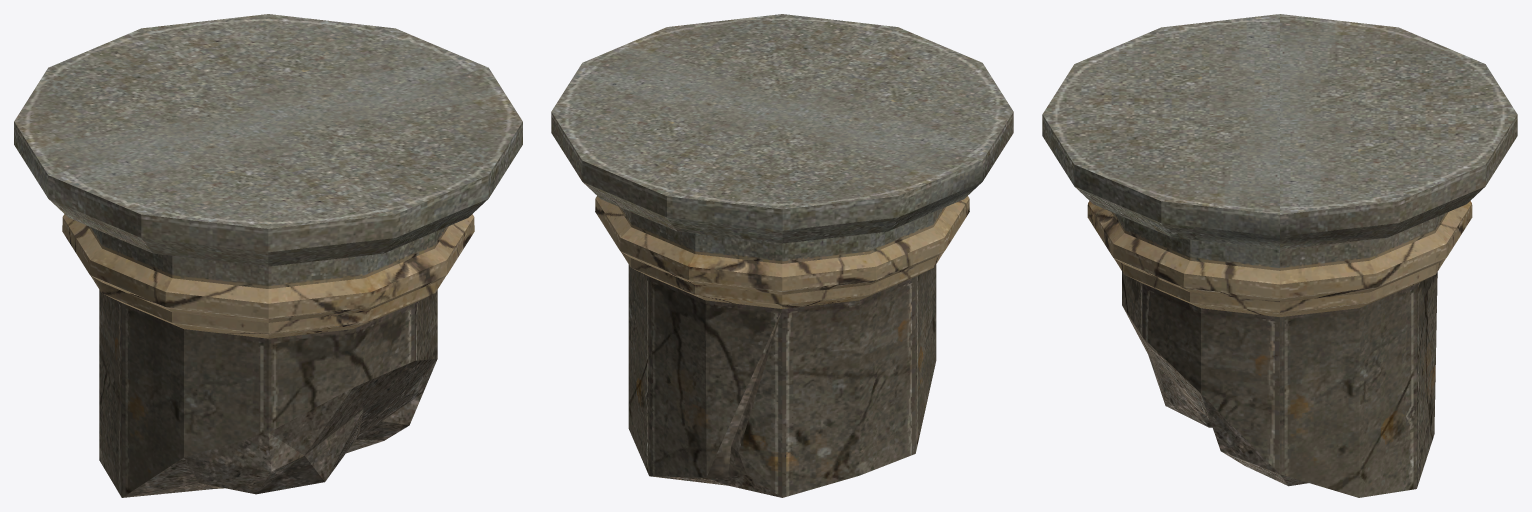
Rendered from bg_lut_lutomb_pillar07c_sm_old.FBX.
3 renders of one model, left to right at view 1: azimuth 30°, elevation 25°; view 2: azimuth 150°, elevation 25°; view 3: azimuth 270°, elevation 25°, orthographic. The views are drawn at different scales.
Parts seen in each view (by area): view 1: bg_lut_lutomb_pillar07c_sm_old; view 2: bg_lut_lutomb_pillar07c_sm_old; view 3: bg_lut_lutomb_pillar07c_sm_old.
Boxes of the visible parts, box(x1,y1,x2,y2) form: bg_lut_lutomb_pillar07c_sm_old: box(14, 14, 522, 497); bg_lut_lutomb_pillar07c_sm_old: box(551, 14, 1013, 497); bg_lut_lutomb_pillar07c_sm_old: box(1042, 14, 1517, 497).
Size of the model in its own units: 61.89 by 49.06 by 61.89.
